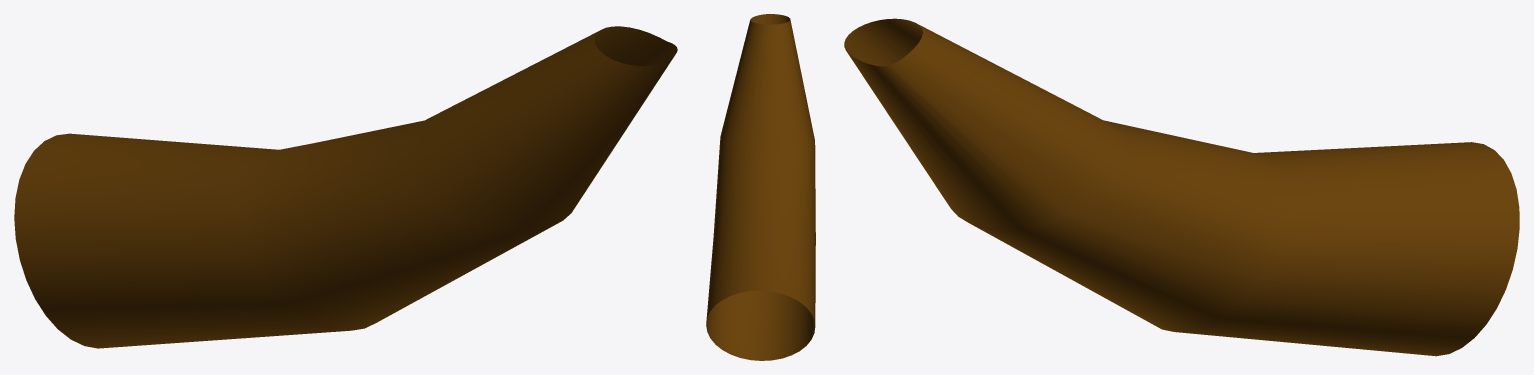
Rendered from Ramo3.fbx.
The picture shows the model from 3 angles, left to right: view 1: azimuth 30°, elevation 25°; view 2: azimuth 150°, elevation 25°; view 3: azimuth 270°, elevation 25°; orthographic projection. The views are drawn at different scales.
Parts seen in each view (by area): view 1: Ramo3; view 2: Ramo3; view 3: Ramo3.
Part boxes in pixels (x1,y1,x2,y2): Ramo3: (14,26,677,348); Ramo3: (706,14,815,360); Ramo3: (844,18,1519,356).
Bounding box in the file's own units: 252 × 268 × 377.
